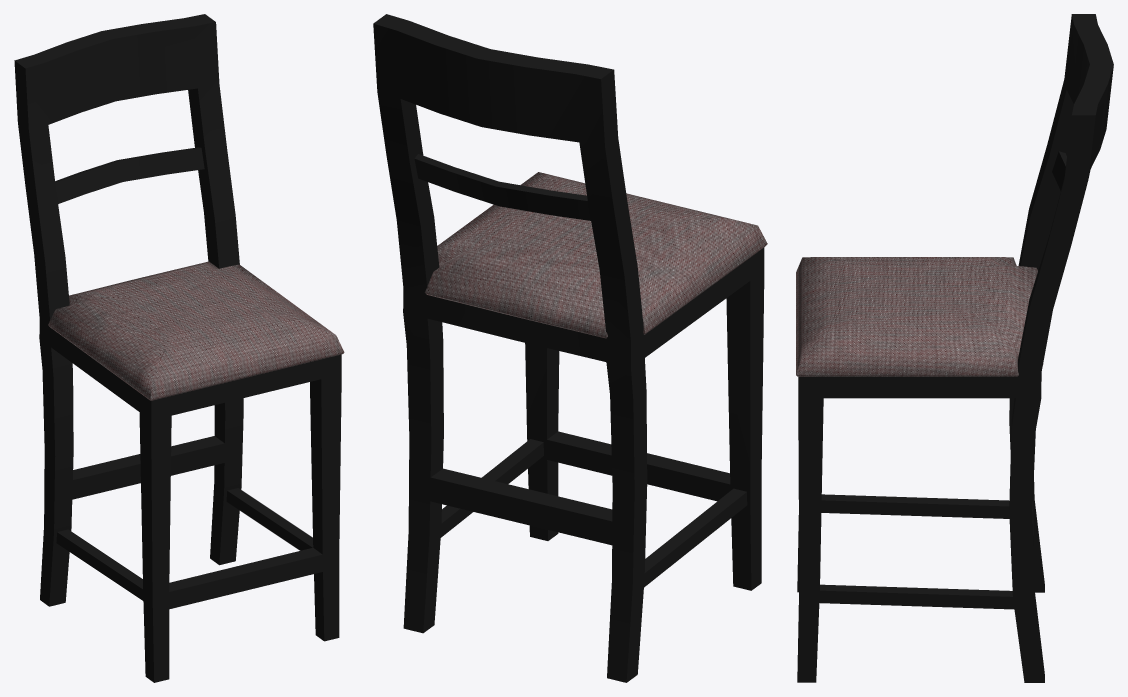
Rendered from Chairs_Bar_Chairs_3.fbx.
3 renders of one model, left to right at view 1: azimuth 30°, elevation 25°; view 2: azimuth 150°, elevation 25°; view 3: azimuth 270°, elevation 25°, orthographic. The views are drawn at different scales.
Visible parts, largest first — view 1: Cube.090; view 2: Cube.090; view 3: Cube.090.
Boxes of the visible parts, box(x1,y1,x2,y2) form: Cube.090: box(14, 14, 344, 682); Cube.090: box(373, 14, 767, 682); Cube.090: box(796, 14, 1113, 682).
Bounding box in the file's own units: 44.82 × 115 × 58.41.
